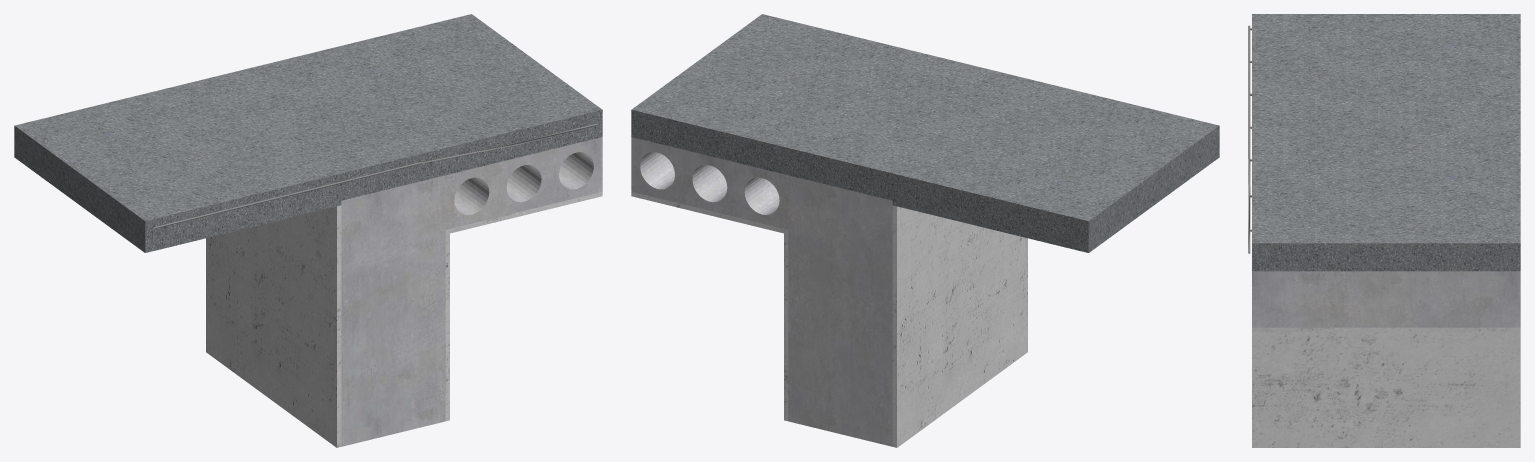
The model's file is free-fall-waterproof-eaves-01.glb.
The picture shows the model from 3 angles, left to right: view 1: azimuth 30°, elevation 25°; view 2: azimuth 150°, elevation 25°; view 3: azimuth 270°, elevation 25°; orthographic projection. The views are drawn at different scales.
Visible parts, largest first — view 1: 细石混凝土防水悬挑层, 室外抹灰, 墙体, 墙顶圈梁, 空心屋面板, 室内抹灰, 防水层双向钢筋网; view 2: 细石混凝土防水悬挑层, 室外抹灰, 墙体, 墙顶圈梁, 空心屋面板, 室内抹灰; view 3: 细石混凝土防水悬挑层, 室内抹灰, 空心屋面板, 防水层双向钢筋网.
Boxes of the visible parts, x1,y1,x2,y2 form: 细石混凝土防水悬挑层: [14, 14, 602, 252]; 室外抹灰: [206, 205, 341, 447]; 墙体: [341, 284, 445, 446]; 墙顶圈梁: [341, 175, 445, 309]; 空心屋面板: [445, 137, 602, 229]; 室内抹灰: [445, 192, 602, 421]; 防水层双向钢筋网: [152, 123, 597, 241]; 细石混凝土防水悬挑层: [631, 14, 1219, 252]; 室外抹灰: [892, 205, 1027, 447]; 墙体: [788, 284, 892, 446]; 墙顶圈梁: [788, 175, 892, 309]; 空心屋面板: [631, 137, 788, 229]; 室内抹灰: [631, 191, 788, 421]; 细石混凝土防水悬挑层: [1252, 14, 1520, 271]; 室内抹灰: [1252, 327, 1520, 447]; 空心屋面板: [1252, 271, 1520, 327]; 防水层双向钢筋网: [1248, 25, 1251, 253].
Size of what is drawn, in the model's own units: 1.05 by 0.6 by 0.527.
Materials: 7 (6 with a texture image).
